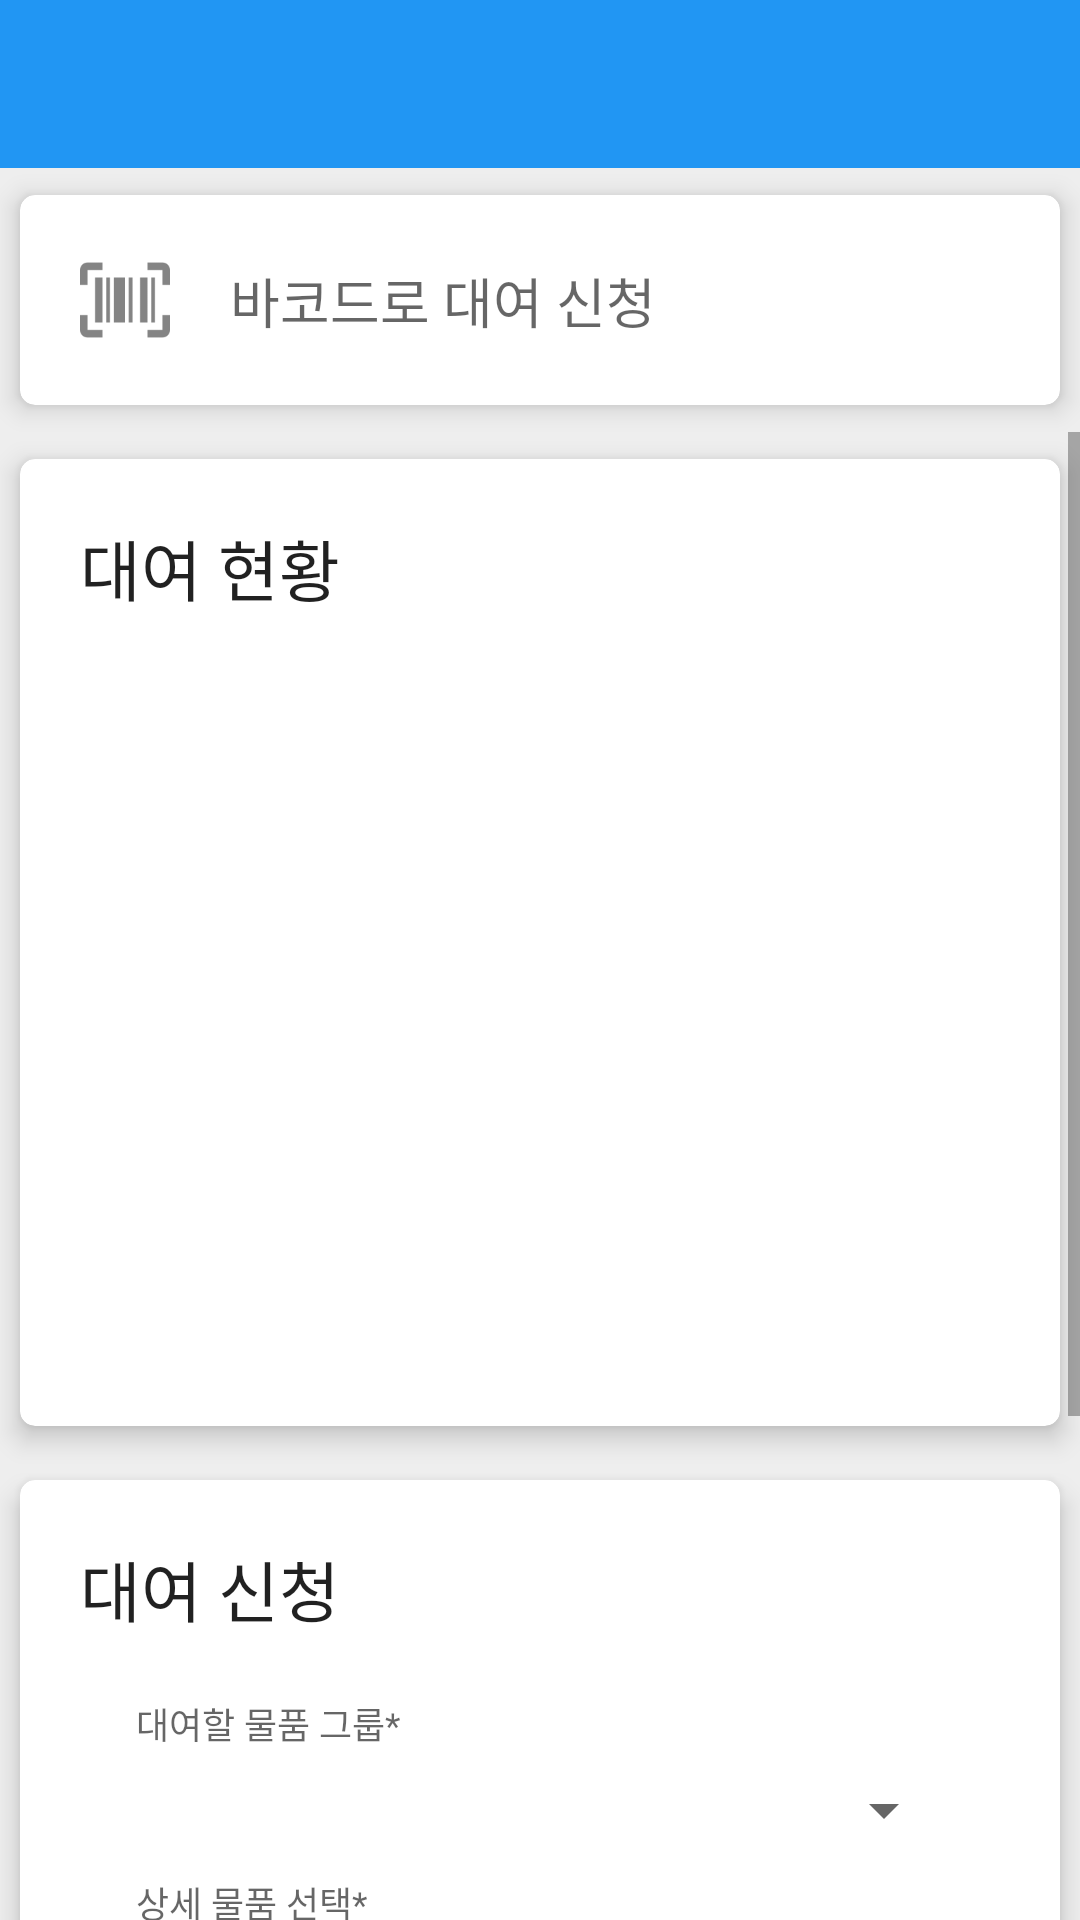

Locate icon controls on the screen. Image size 1080×1920, boxes as {"x1": x1, "y1": y1, "x2": x2, "y2": y2}.
barcode scan: {"x1": 80, "y1": 262, "x2": 170, "y2": 338}
